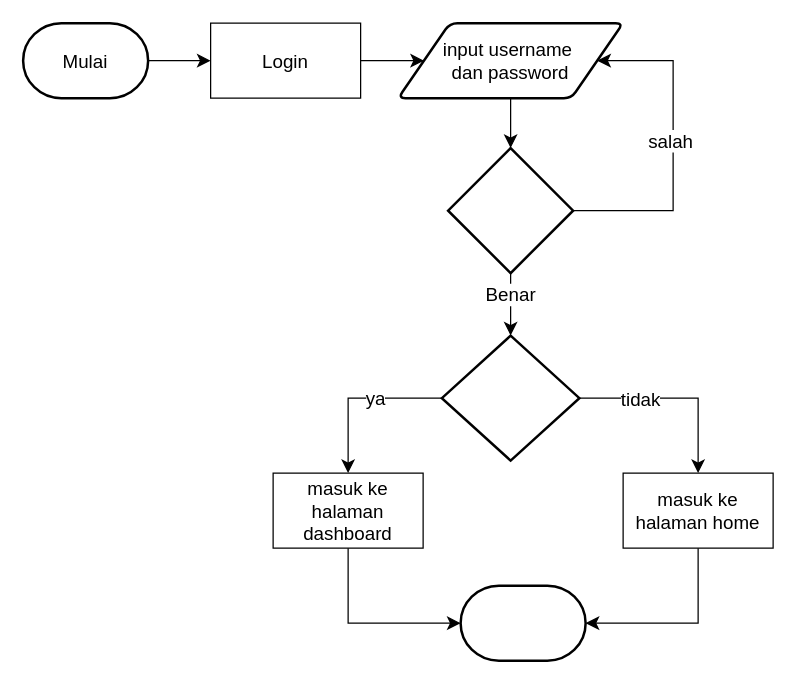
Image size: 795x683. Some labels were removed from this diagram. Each missing label, with the centre of its shape:
"Role : admin?" belongs at (x=510, y=397).
"selesai" belongs at (x=522, y=622).
"validasi password" belongs at (x=510, y=210).
